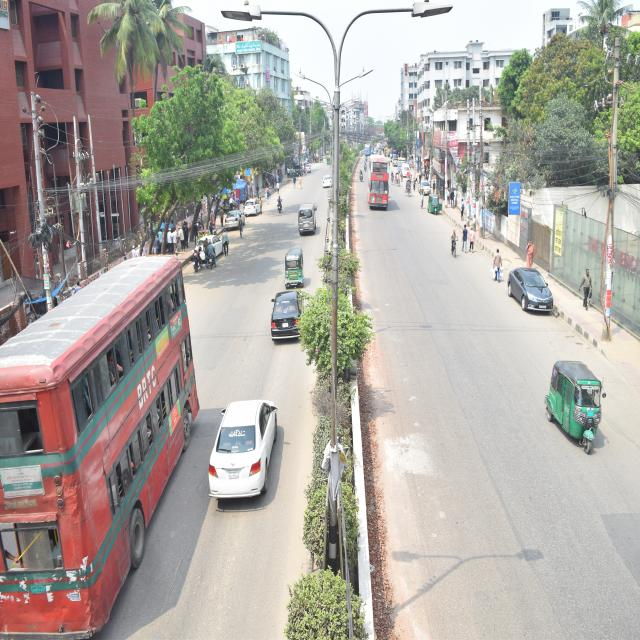bus: (0, 236, 200, 628), (367, 152, 397, 221), (362, 143, 374, 157)
car: (200, 383, 311, 516), (238, 257, 329, 368), (500, 257, 571, 326), (194, 216, 238, 278), (224, 202, 255, 250), (242, 184, 266, 222), (413, 175, 439, 205), (320, 170, 343, 200), (401, 160, 422, 190), (301, 158, 314, 176)
motorbike: (186, 232, 212, 276), (202, 228, 224, 276), (273, 192, 286, 229), (356, 162, 366, 190), (362, 160, 368, 180)
pickup-van: (395, 153, 426, 174), (290, 154, 309, 183)
